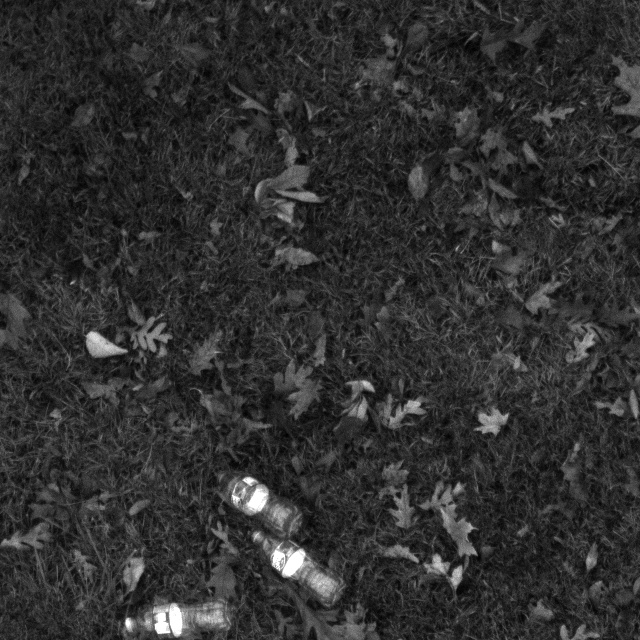bottle: (245, 528, 350, 606), (207, 459, 312, 530), (106, 587, 237, 640)
